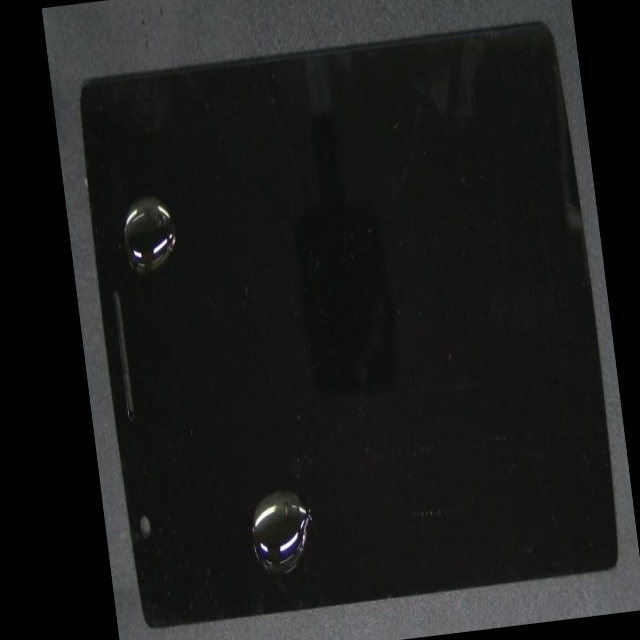oil: (180, 269, 430, 640), (105, 141, 240, 369)
